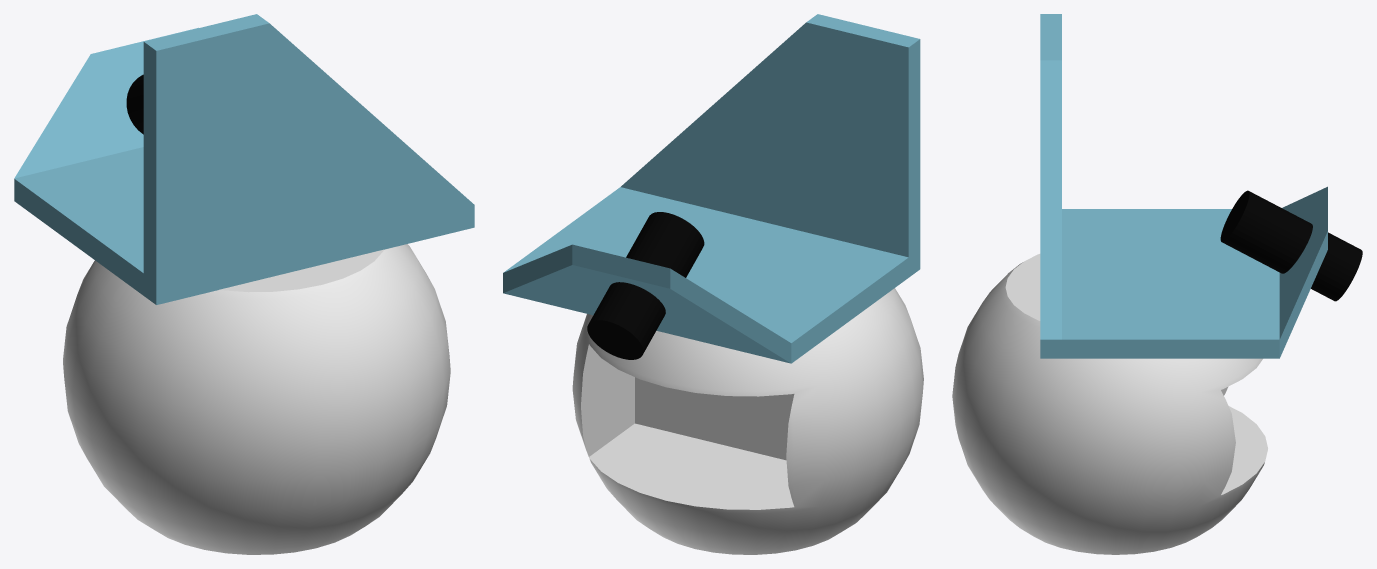
Rendered from SU27heading.fbx.
3 renders of one model, left to right at view 1: azimuth 30°, elevation 25°; view 2: azimuth 150°, elevation 25°; view 3: azimuth 270°, elevation 25°, orthographic. The views are drawn at different scales.
Visible parts, largest first — view 1: Sphere, Cube.001, Cylinder; view 2: Cube.001, Sphere, Cylinder; view 3: Sphere, Cube.001, Cylinder.
Boxes of the visible parts, bbox=[...] form: Sphere: bbox=[63, 244, 450, 554]; Cube.001: bbox=[14, 14, 474, 304]; Cylinder: bbox=[126, 74, 143, 134]; Cube.001: bbox=[503, 14, 920, 363]; Sphere: bbox=[572, 288, 923, 554]; Cylinder: bbox=[587, 212, 704, 359]; Sphere: bbox=[952, 254, 1267, 554]; Cube.001: bbox=[1040, 14, 1327, 358]; Cylinder: bbox=[1220, 190, 1362, 301].
Bounding box in the file's own units: 5.53 × 8.07 × 6.84.
